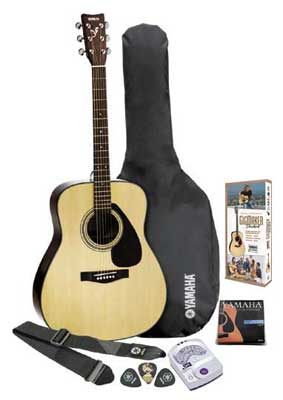guitar: (30, 13, 169, 341)
